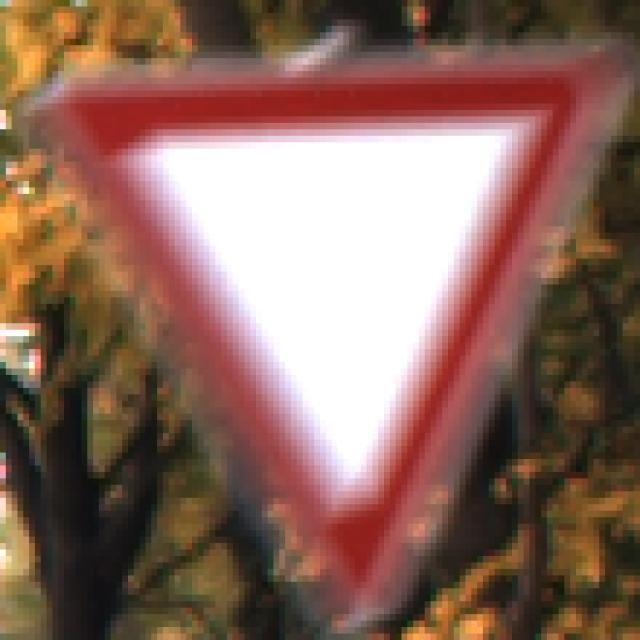give way: (33, 38, 626, 597)
